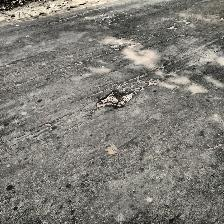pothole: (95, 89, 135, 107)
